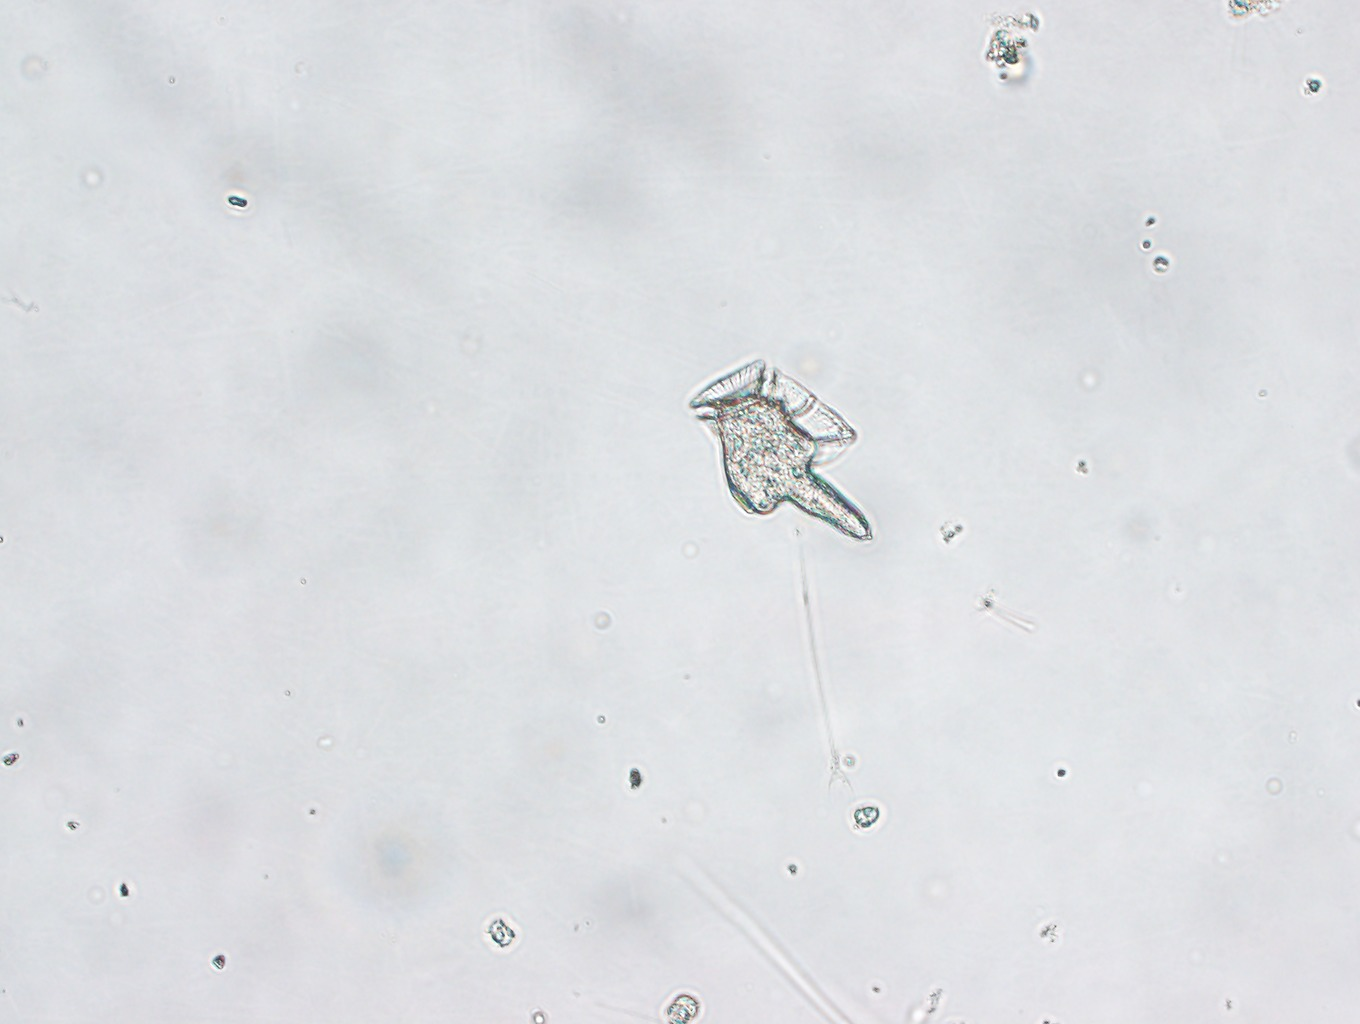dinophysis caudata: (670, 349, 874, 547)
